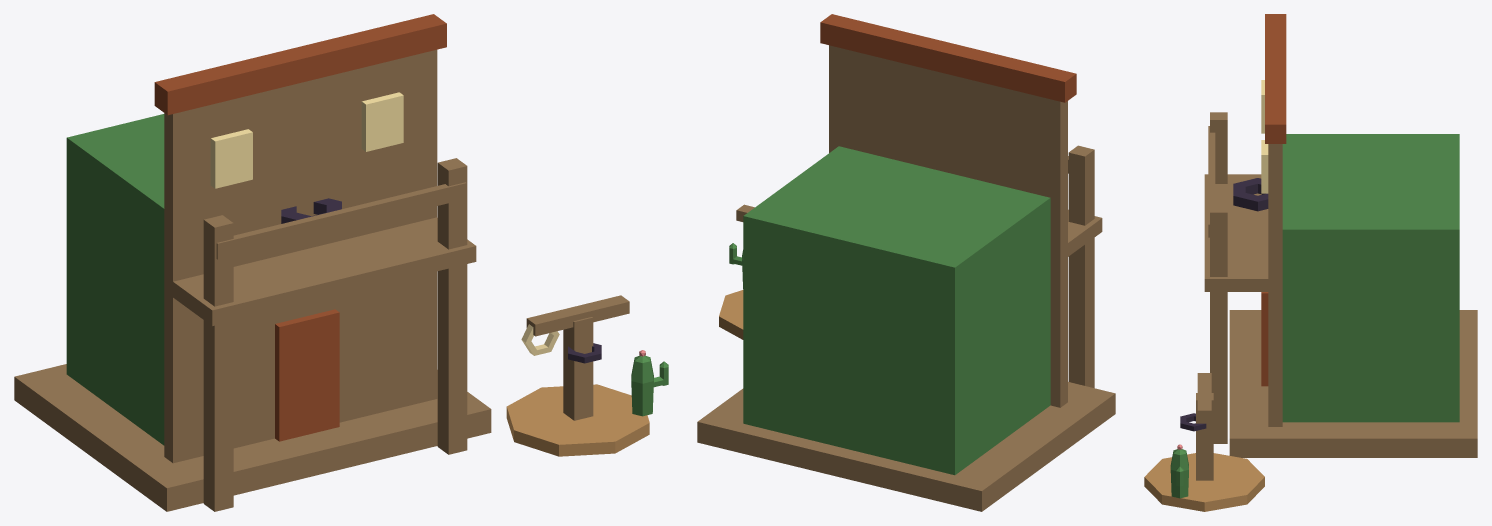
File: wildwest-landmark-s2.glb
3 renders of one model, left to right at view 1: azimuth 30°, elevation 25°; view 2: azimuth 150°, elevation 25°; view 3: azimuth 270°, elevation 25°, orthographic. The views are drawn at different scales.
Parts seen in each view (by area): view 1: wildwest-landmark-s2; view 2: wildwest-landmark-s2; view 3: wildwest-landmark-s2.
Boxes of the visible parts, x1,y1,x2,y2 form: wildwest-landmark-s2: (14, 14, 668, 511); wildwest-landmark-s2: (697, 14, 1115, 511); wildwest-landmark-s2: (1144, 14, 1477, 511).
Bounding box in the file's own units: 1.25 × 1.01 × 0.94.
